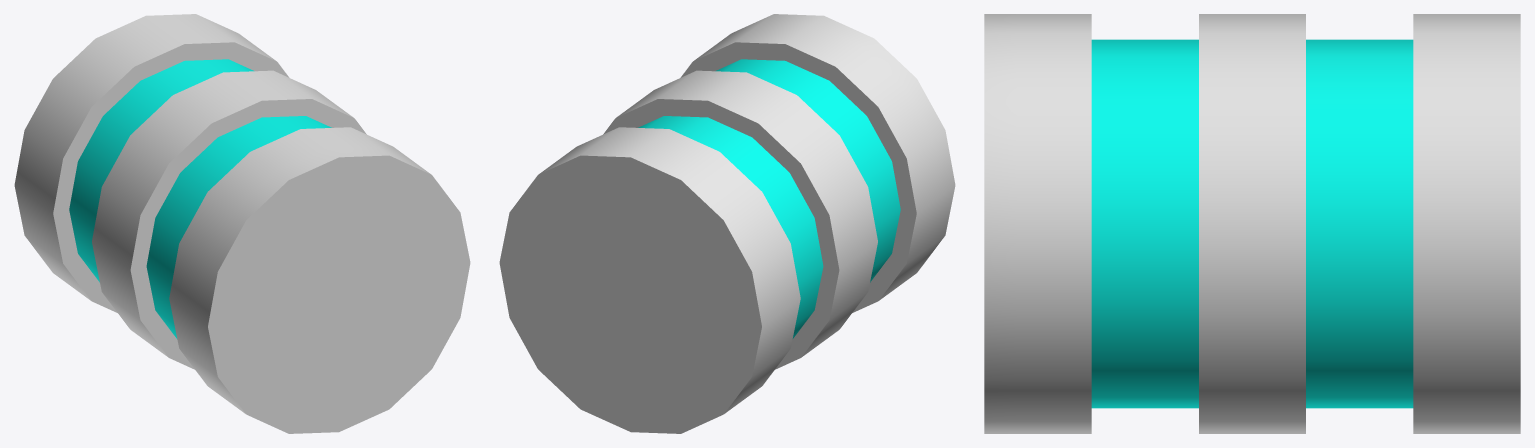
The model's file is SM_BodyElectric.fbx.
The picture shows the model from 3 angles, left to right: view 1: azimuth 30°, elevation 25°; view 2: azimuth 150°, elevation 25°; view 3: azimuth 270°, elevation 25°; orthographic projection. The views are drawn at different scales.
Visible parts, largest first — view 1: BodyElectric; view 2: BodyElectric; view 3: BodyElectric.
Boxes of the visible parts, x1,y1,x2,y2 form: BodyElectric: (14, 14, 470, 433); BodyElectric: (499, 14, 955, 433); BodyElectric: (984, 14, 1520, 433).
Size of the model in its own units: 1.55 by 1.55 by 1.97.
1 material, 1 textured.
